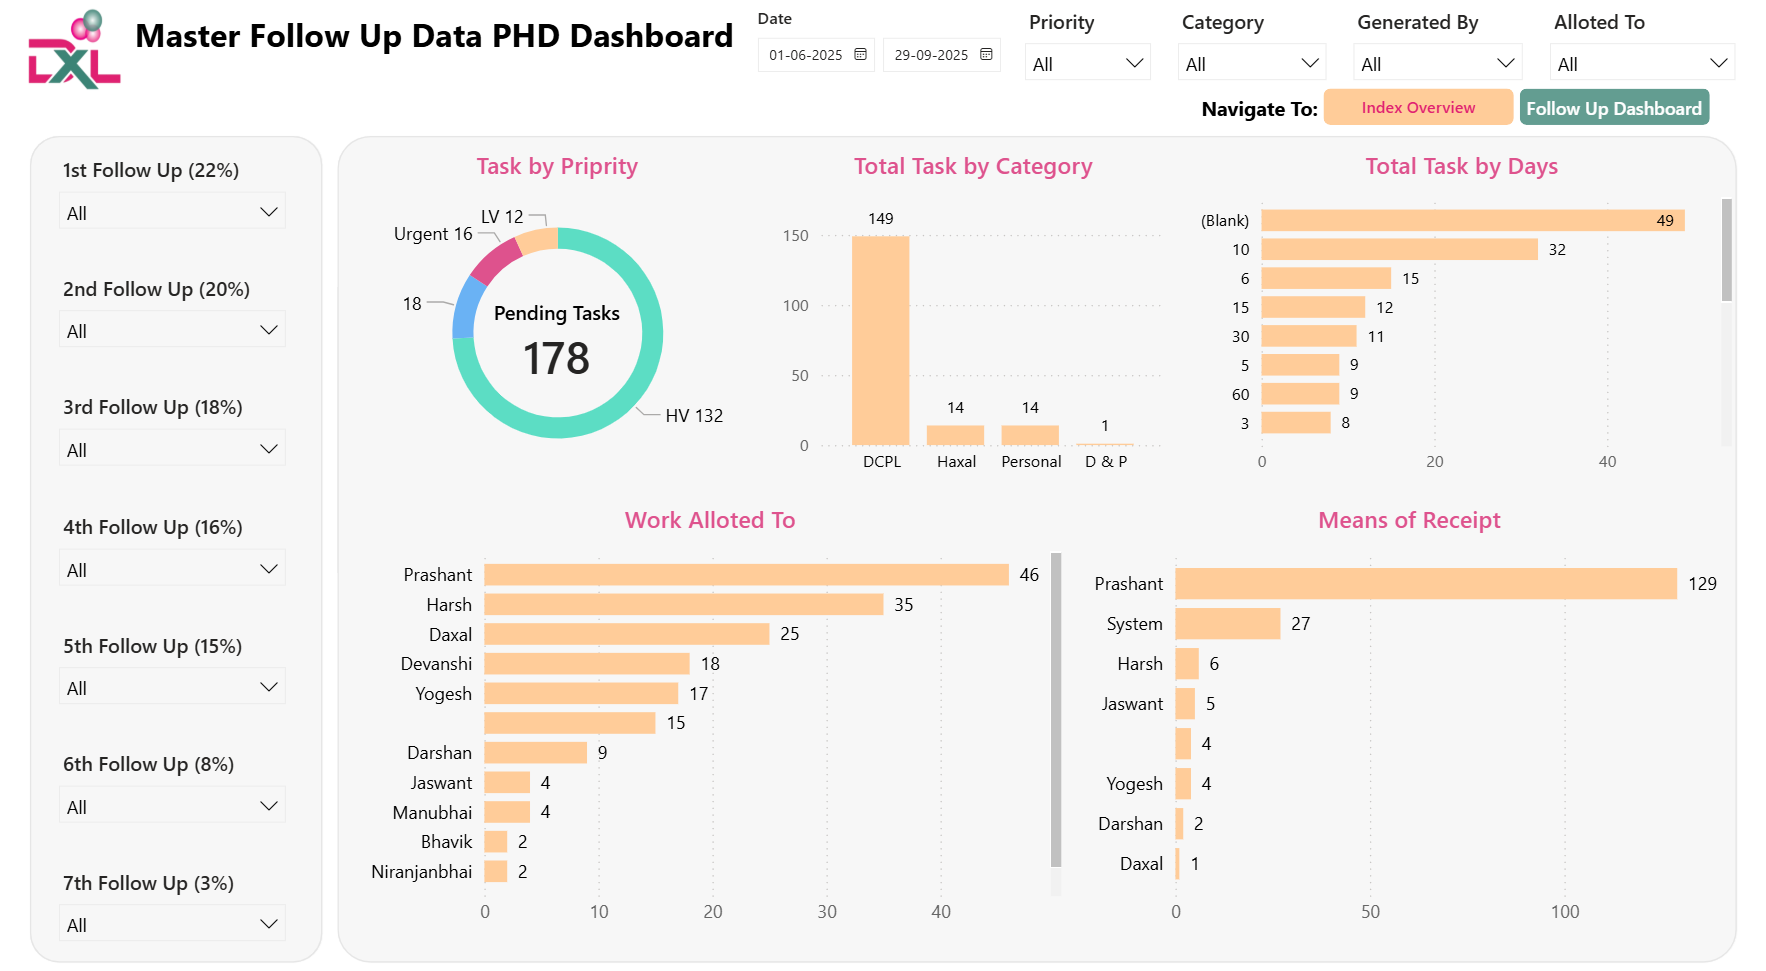

What the dashboard file says about the page in this screenshot:
{"tool":"powerbi","page":{"name":"Follow Up Dashboard","canvas":[1280,720],"ordinal":1},"visuals":[{"type":"textbox","box":[869.7,64.4,106.7,31.7],"z":0,"group":"g1"},{"type":"shape","box":[6.5,100.4,218,613.7],"z":0},{"type":"pageNavigator","box":[965.1,65.9,286,27.3],"z":1000,"group":"g1"},{"type":"shape","box":[234.8,100.4,1037.9,613.7],"z":1000},{"type":"image","box":[0,0,81,72.9],"z":2000},{"type":"textbox","box":[80.3,3,467,50],"z":3000},{"type":"donutChart","fields":{"Category":["Sheet3.Priprity"],"Y":["Measure Table.Total Task"]},"box":[246.1,110.1,302.8,249.4],"z":4000},{"type":"clusteredColumnChart","fields":{"Y":["Measure Table.Total Task"],"Category":["Sheet3.Category"]},"box":[558.6,110.1,294.7,249.4],"z":5000},{"type":"clusteredBarChart","title":"Work Alloted To","fields":{"Category":["Sheet3.Work Alloted To"],"Y":["Measure Table.Total Task"]},"box":[246.1,372.4,529.5,322.2],"z":6000},{"type":"clusteredBarChart","title":"Means of Receipt","fields":{"Y":["Measure Table.Total Task"],"Category":["Sheet3.Means of Receipt"]},"box":[785.3,372.4,487.4,322.2],"z":7000},{"type":"group","id":"g1","title":"Group 1","box":[869.7,64.4,381.4,31.7],"z":8000},{"type":"slicer","fields":{"Values":["Priority.Priprity"]},"box":[734.4,0,113.6,66.6],"z":9000},{"type":"slicer","fields":{"Values":["Category.Category"]},"box":[848,0,130.2,66.6],"z":10000},{"type":"slicer","fields":{"Values":["Sheet3.Means of Receipt"]},"box":[978.2,0,145.4,66.6],"z":11000},{"type":"slicer","fields":{"Values":["Sheet3.1st Follow Up (22%)"]},"box":[19.4,110.1,187.8,66.4],"z":12000},{"type":"slicer","fields":{"Values":["Sheet3.4th Follow Up (16%)"]},"box":[19.4,374,187.8,66.4],"z":13000},{"type":"slicer","fields":{"Values":["Sheet3.2nd Follow Up (20%)"]},"box":[19.4,198.1,187.8,66.4],"z":14000},{"type":"slicer","fields":{"Values":["Sheet3.3rd Follow Up (18%)"]},"box":[19.4,286.1,187.8,66.4],"z":15000},{"type":"slicer","fields":{"Values":["Sheet3.5th Follow Up (15%)"]},"box":[19.4,462,187.8,66.4],"z":16000},{"type":"slicer","fields":{"Values":["Sheet3.6th Follow Up (8%)"]},"box":[19.4,550,187.8,66.4],"z":17000},{"type":"slicer","fields":{"Values":["Sheet3.7th Follow Up (3%)"]},"box":[19.4,638,187.8,66.4],"z":18000},{"type":"slicer","fields":{"Values":["Sheet3.Work Alloted To"]},"box":[1122.5,0,157.5,66.6],"z":19000},{"type":"cardVisual","title":"Total Pending Tasks","fields":{"Data":["Measure Table.Total Task"]},"box":[341.7,208.9,113.3,89.1],"z":20000},{"type":"clusteredBarChart","fields":{"Category":["Sheet3.Days"],"Y":["Measure Table.Total Task"]},"box":[863,110.1,409.7,249.4],"z":21000},{"type":"slicer","fields":{"Values":["Calendar.Date"]},"box":[533,0,201.4,66.6],"z":22000}]}

Visuals, with their boxes in screenshot pixels (x1, y1, x2, y2), scaled from the page's 1280x720 canvas onto the 1766x971 screenshot:
textbox: bbox=(1200, 87, 1347, 130)
shape: bbox=(9, 135, 310, 963)
pageNavigator: bbox=(1332, 89, 1726, 126)
shape: bbox=(324, 135, 1756, 963)
image: bbox=(0, 0, 112, 98)
textbox: bbox=(111, 4, 755, 71)
donutChart - Sheet3.Priprity x Measure Table.Total Task: bbox=(340, 148, 757, 485)
clusteredColumnChart - Measure Table.Total Task x Sheet3.Category: bbox=(771, 148, 1177, 485)
"Work Alloted To" clusteredBarChart: bbox=(340, 502, 1070, 937)
"Means of Receipt" clusteredBarChart: bbox=(1083, 502, 1756, 937)
"Group 1" group: bbox=(1200, 87, 1726, 130)
slicer - Priority.Priprity: bbox=(1013, 0, 1170, 90)
slicer - Category.Category: bbox=(1170, 0, 1350, 90)
slicer - Sheet3.Means of Receipt: bbox=(1350, 0, 1550, 90)
slicer - Sheet3.1st Follow Up (22%): bbox=(27, 148, 286, 238)
slicer - Sheet3.4th Follow Up (16%): bbox=(27, 504, 286, 594)
slicer - Sheet3.2nd Follow Up (20%): bbox=(27, 267, 286, 357)
slicer - Sheet3.3rd Follow Up (18%): bbox=(27, 386, 286, 475)
slicer - Sheet3.5th Follow Up (15%): bbox=(27, 623, 286, 713)
slicer - Sheet3.6th Follow Up (8%): bbox=(27, 742, 286, 831)
slicer - Sheet3.7th Follow Up (3%): bbox=(27, 860, 286, 950)
slicer - Sheet3.Work Alloted To: bbox=(1549, 0, 1765, 90)
"Total Pending Tasks" cardVisual: bbox=(471, 282, 628, 402)
clusteredBarChart - Sheet3.Days x Measure Table.Total Task: bbox=(1191, 148, 1756, 485)
slicer - Calendar.Date: bbox=(735, 0, 1013, 90)
